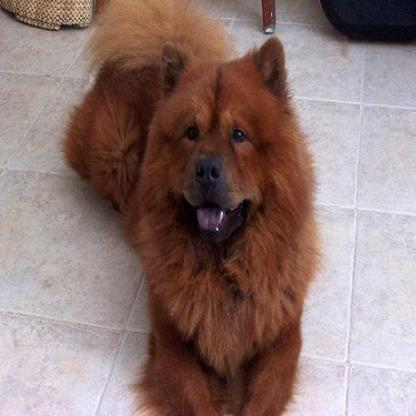chow: (64, 1, 316, 414)
